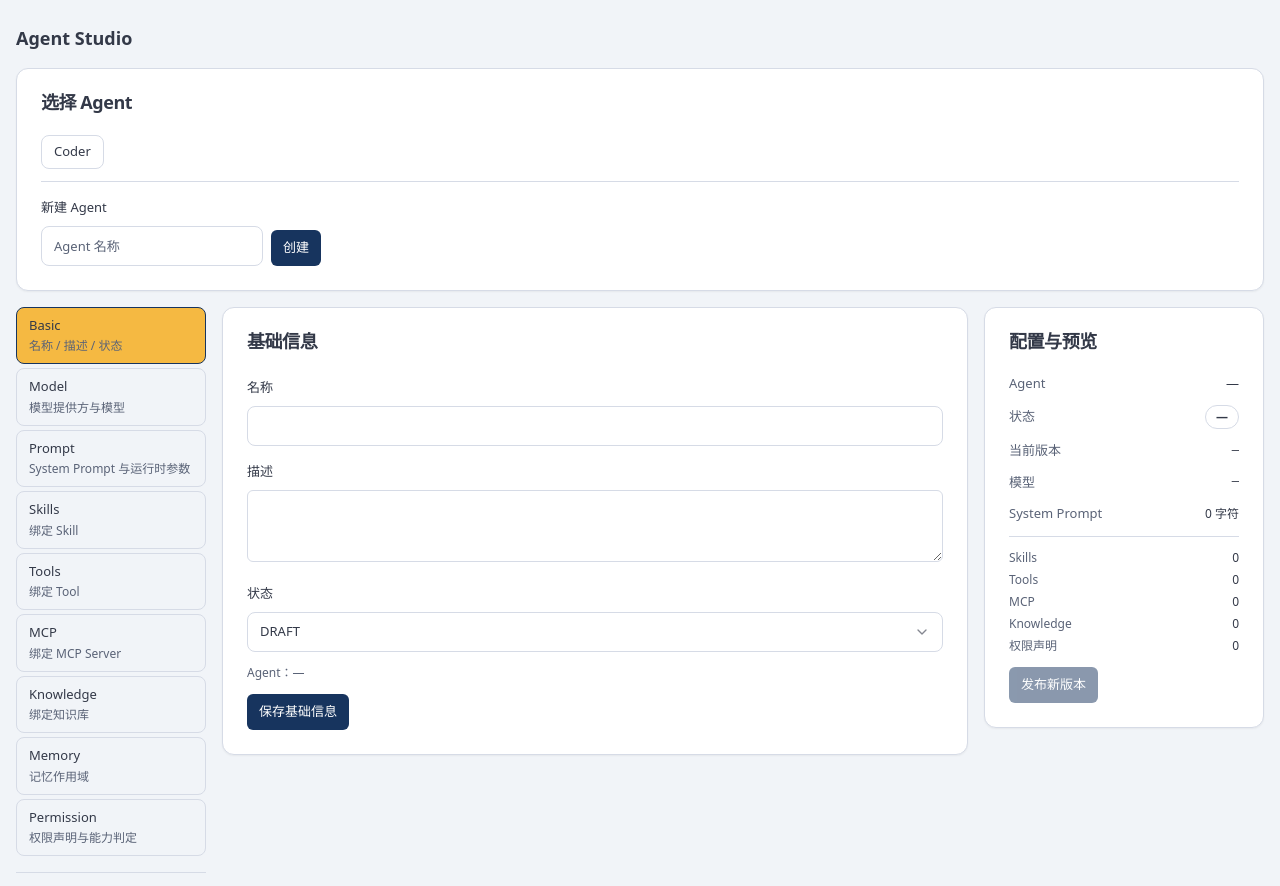
AgentStudio › Skills 面板可绑定 / 创建，且预览反映绑定数
Click the button with test id "studio-agent-a1". click: (72, 152)
box: [41,135,104,168]
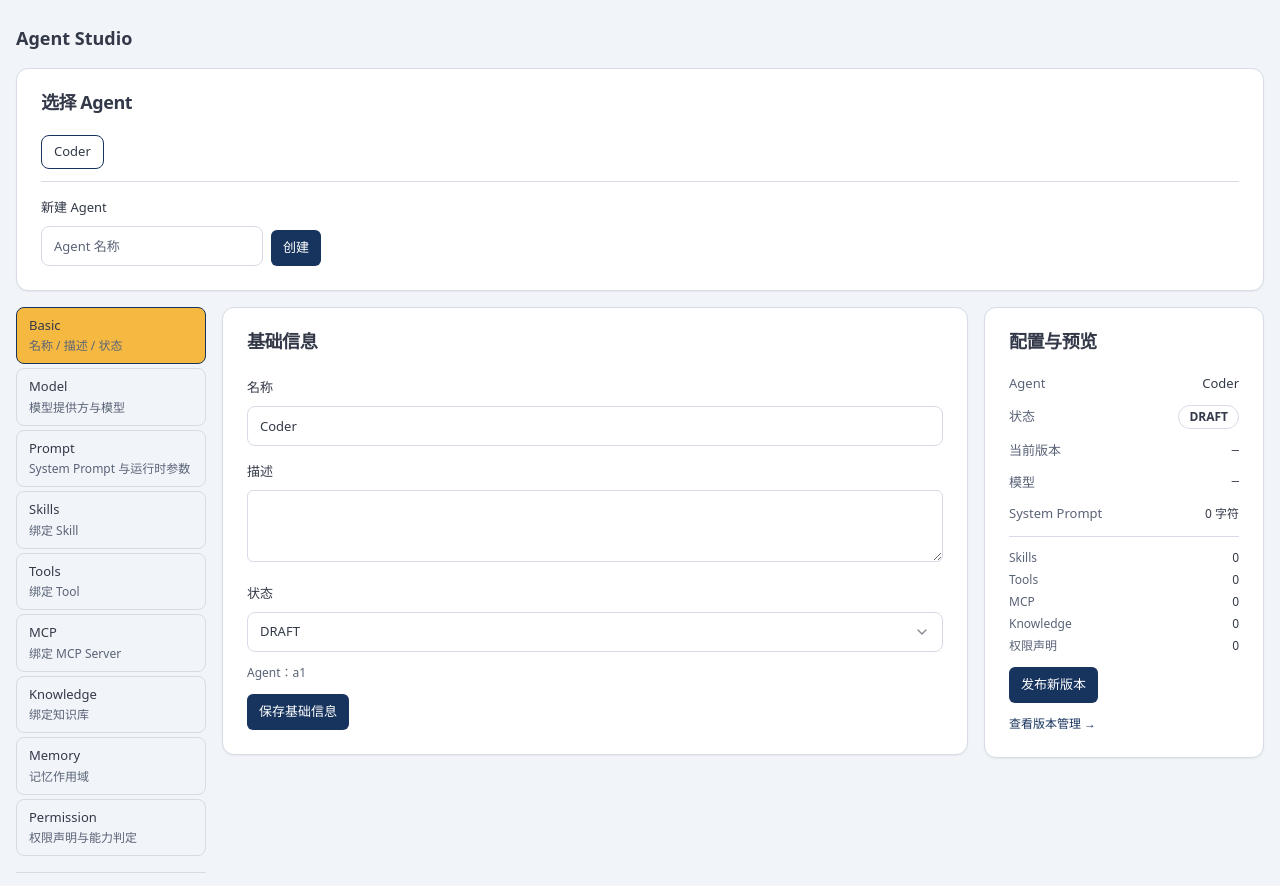
Click the button with test id "studio-nav-skills". click: (111, 520)
box: [16,491,206,548]
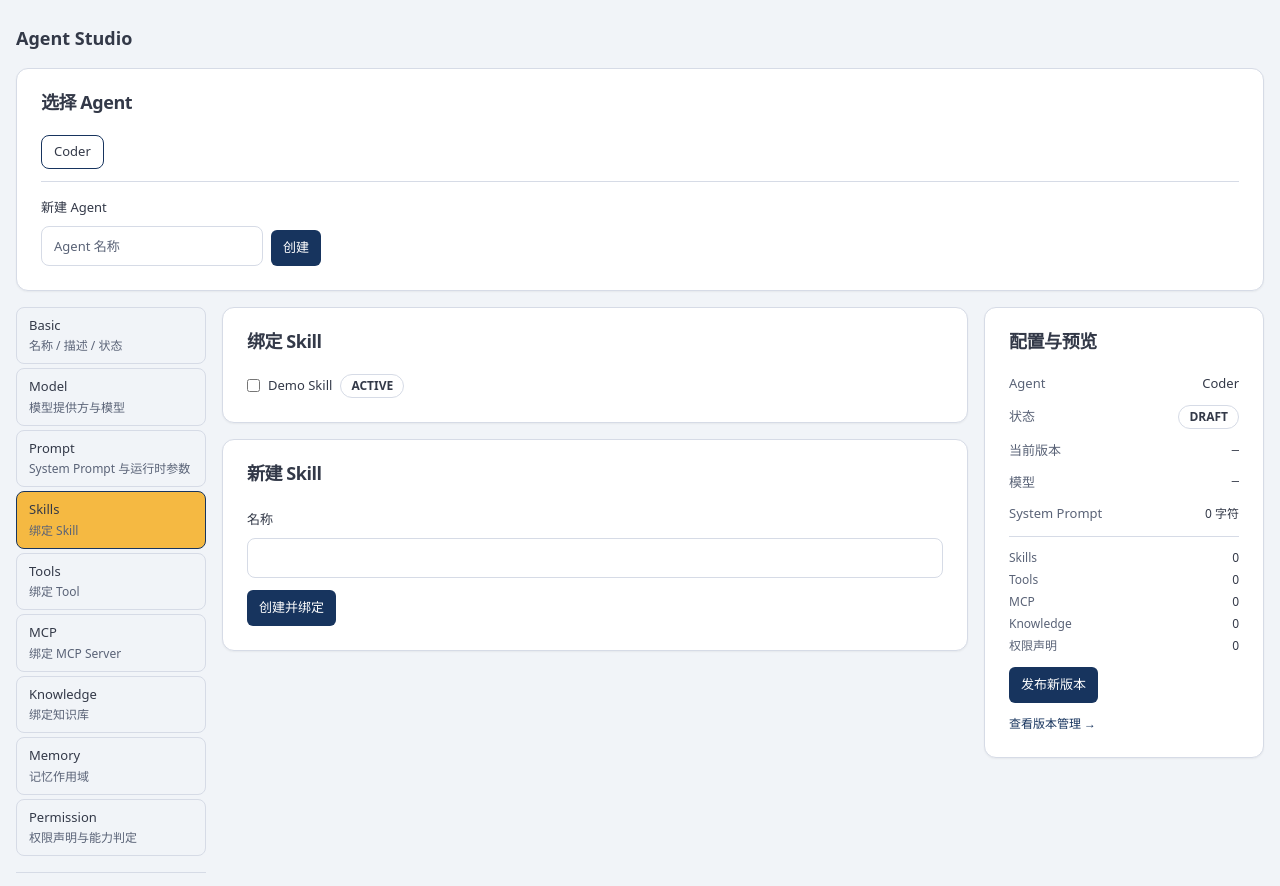
Note: 绑定既有 Skill。
Click the checkbox with test id "skill-bind-demo-skill". click: (254, 386)
box: [247,379,260,392]
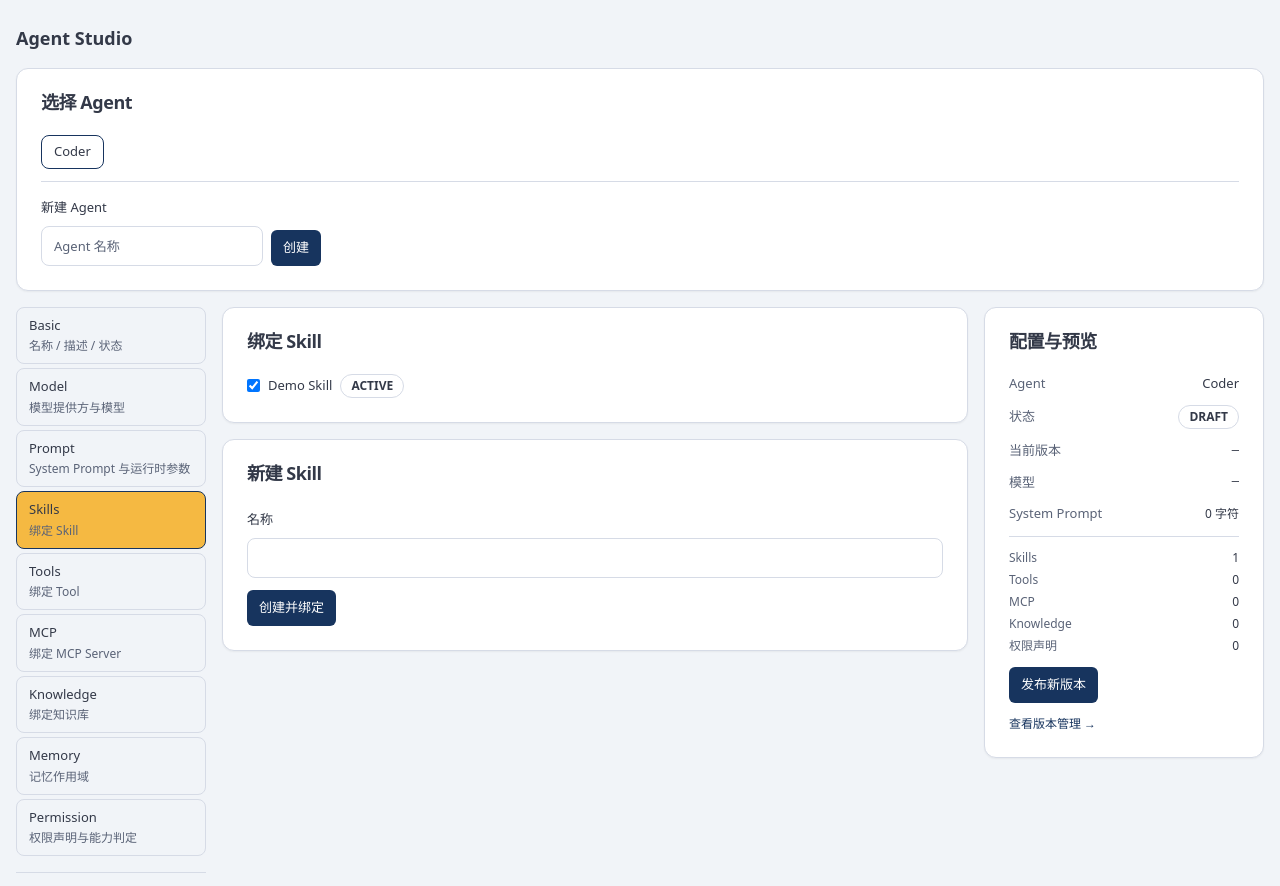
Expected: the text with test id "studio-preview-skills" reads "1", [1232,548,1239,566]
Note: 创建并绑定新 Skill。
Type "new-skill" into the field with test id "panel-skill-name-input". click: (595, 558)
box: [247,538,943,578]
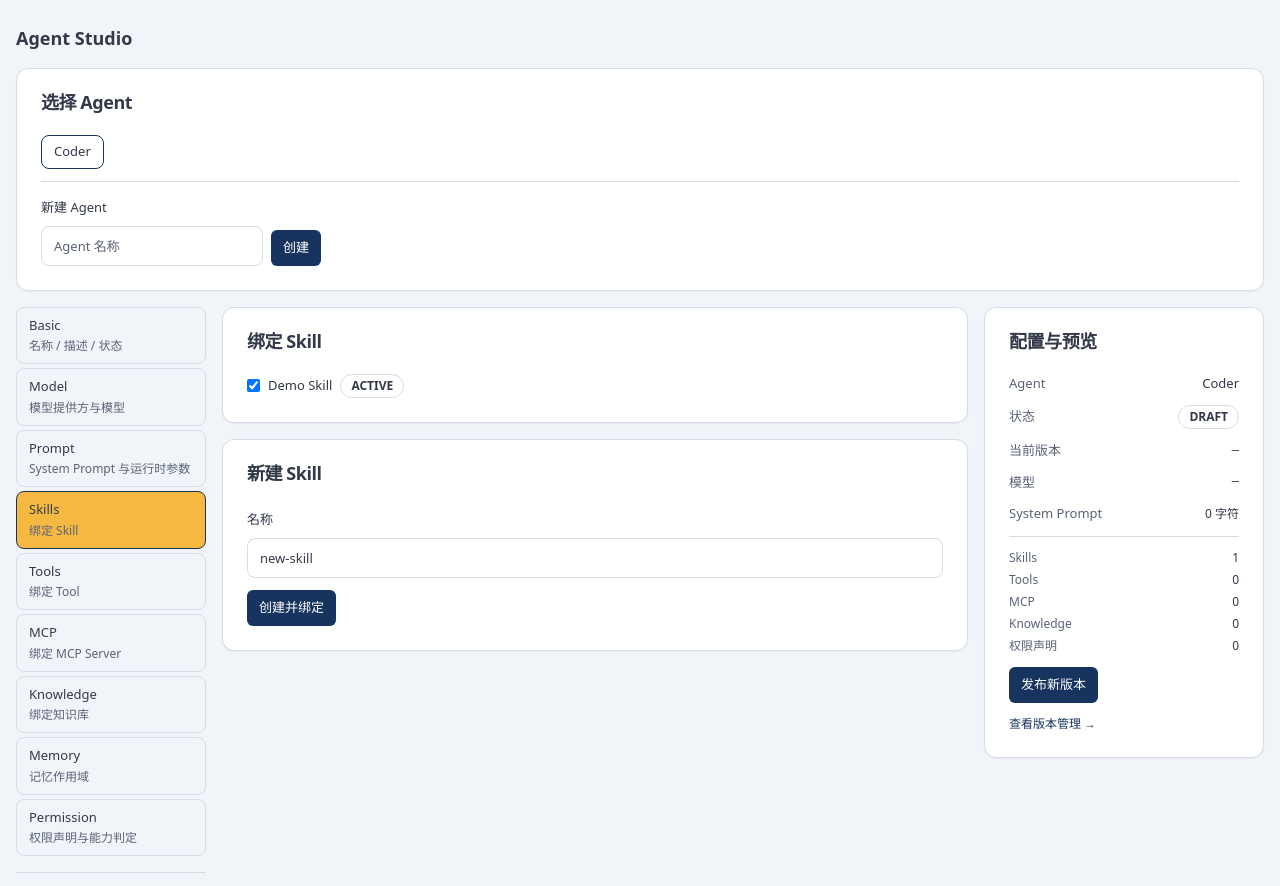
Click the button with test id "panel-skill-create". click: (292, 608)
box: [247,590,336,626]
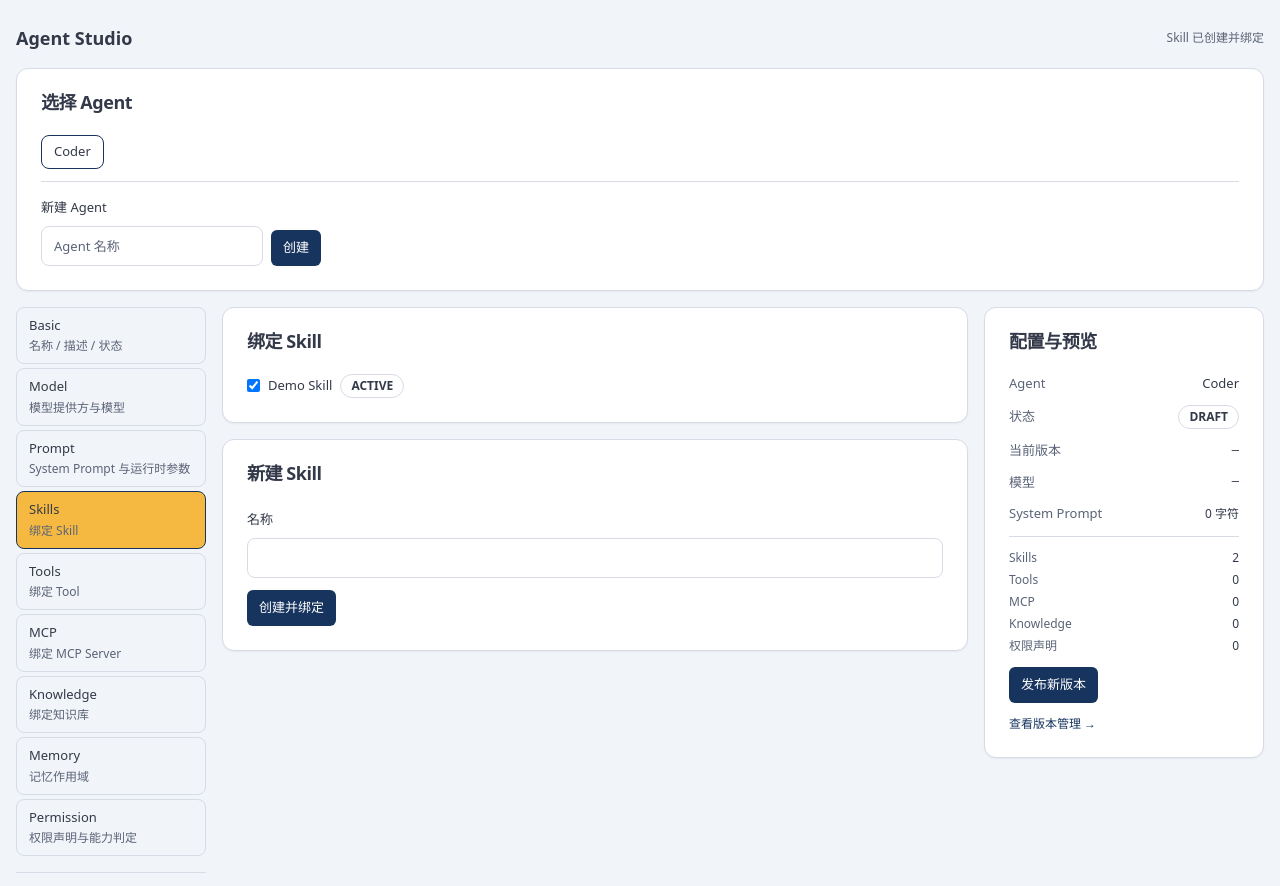
Expected: the text with test id "studio-preview-skills" reads "2", [1232,548,1239,566]
